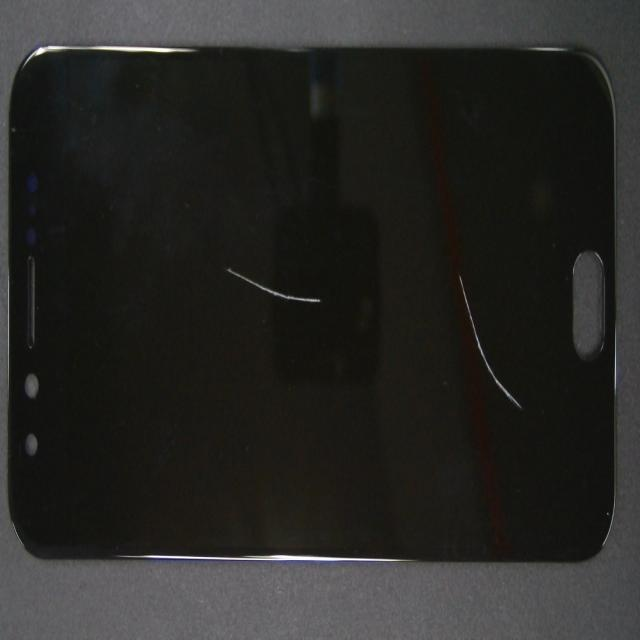scratch: (157, 165, 492, 455), (298, 279, 640, 535)
